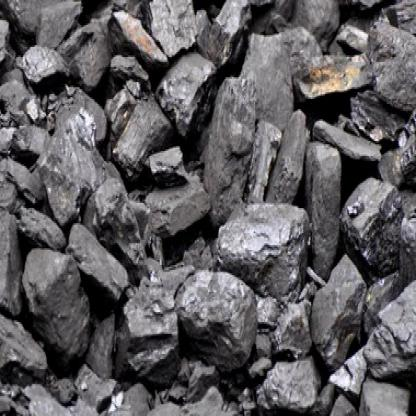Sedimentary_coal: (216, 191, 318, 292), (200, 76, 262, 228), (173, 266, 255, 370), (20, 237, 83, 364), (340, 168, 404, 278), (305, 260, 368, 367), (242, 25, 296, 139), (113, 86, 174, 184), (68, 216, 124, 310), (104, 3, 170, 79), (145, 173, 209, 250), (36, 138, 86, 224), (17, 32, 69, 87)
